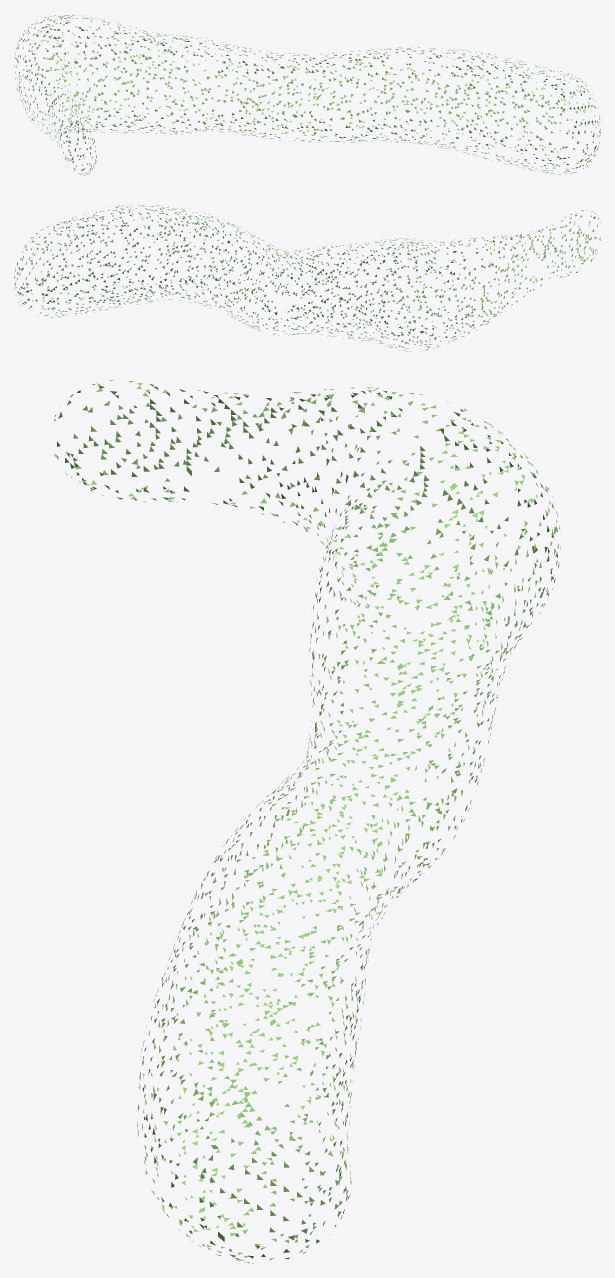
File: morph_014.glb
3 views of the same model, one above another, from view 1: azimuth 30°, elevation 25°; view 2: azimuth 150°, elevation 25°; view 3: azimuth 270°, elevation 25° (orthographic). The views are drawn at different scales.
Size of the model in its own units: 136 by 52.16 by 56.92.
